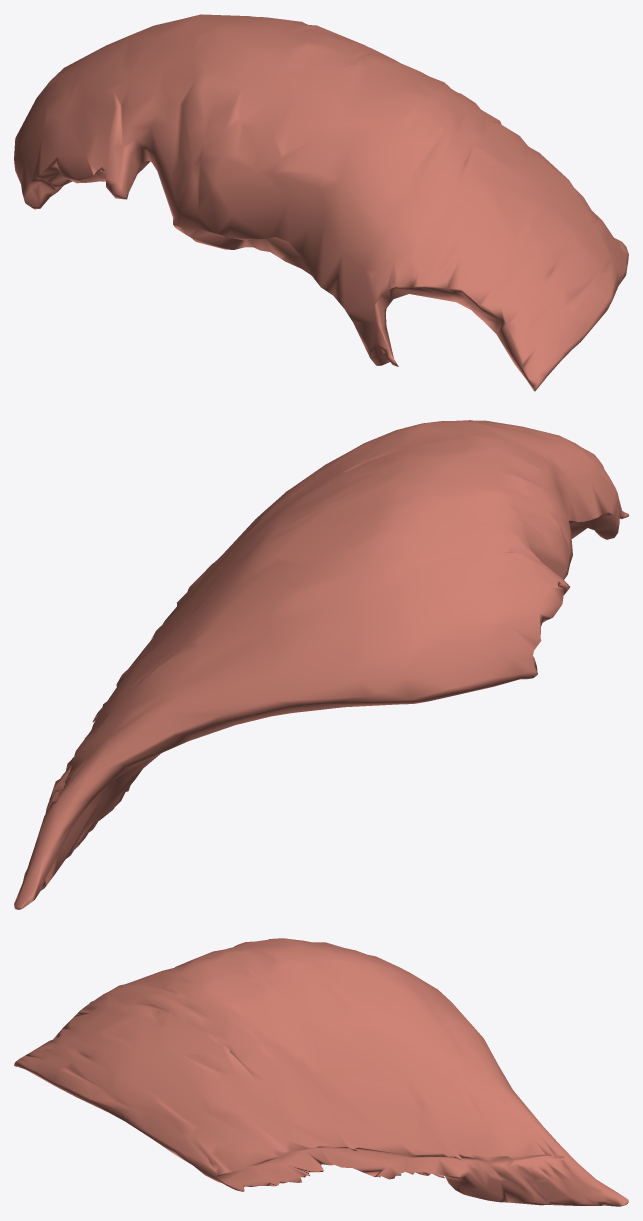
3 views of the same model, one above another, from view 1: azimuth 30°, elevation 25°; view 2: azimuth 150°, elevation 25°; view 3: azimuth 270°, elevation 25° (orthographic). The views are drawn at different scales.
Visible parts, largest first — view 1: 左侧臀大肌; view 2: 左侧臀大肌; view 3: 左侧臀大肌.
Boxes of the visible parts, <box> form: 左侧臀大肌: <box>14,14,628,391</box>; 左侧臀大肌: <box>14,420,628,909</box>; 左侧臀大肌: <box>14,938,628,1206</box>.
Bounding box in the file's own units: 0.2143 × 0.143 × 0.3971.
